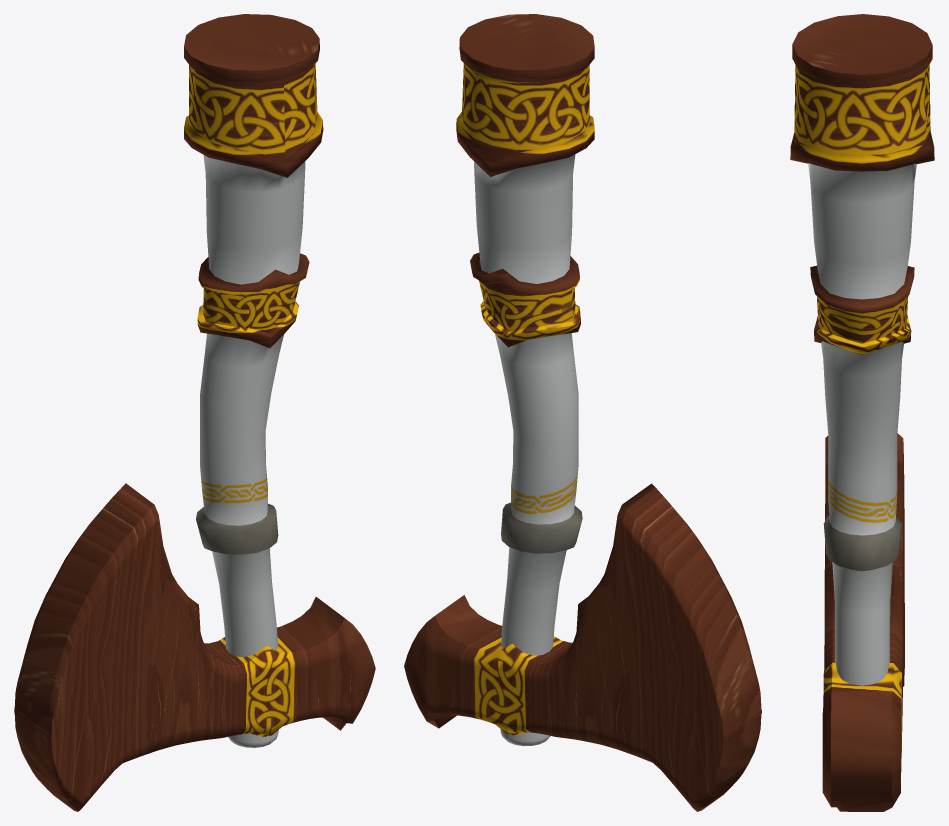
Rendered from Axe.fbx.
3 renders of one model, left to right at view 1: azimuth 30°, elevation 25°; view 2: azimuth 150°, elevation 25°; view 3: azimuth 270°, elevation 25°, orthographic. The views are drawn at different scales.
Visible parts, largest first — view 1: axe_handle, axe_head; view 2: axe_handle, axe_head; view 3: axe_handle, axe_head.
Boxes of the visible parts, x1,y1,x2,y2 form: axe_handle: (184, 14, 323, 747); axe_head: (14, 483, 375, 811); axe_handle: (456, 14, 594, 746); axe_head: (404, 483, 761, 811); axe_handle: (790, 14, 934, 685); axe_head: (822, 433, 904, 811).
Bounding box in the file's own units: 1.74 × 3.64 × 0.638.
